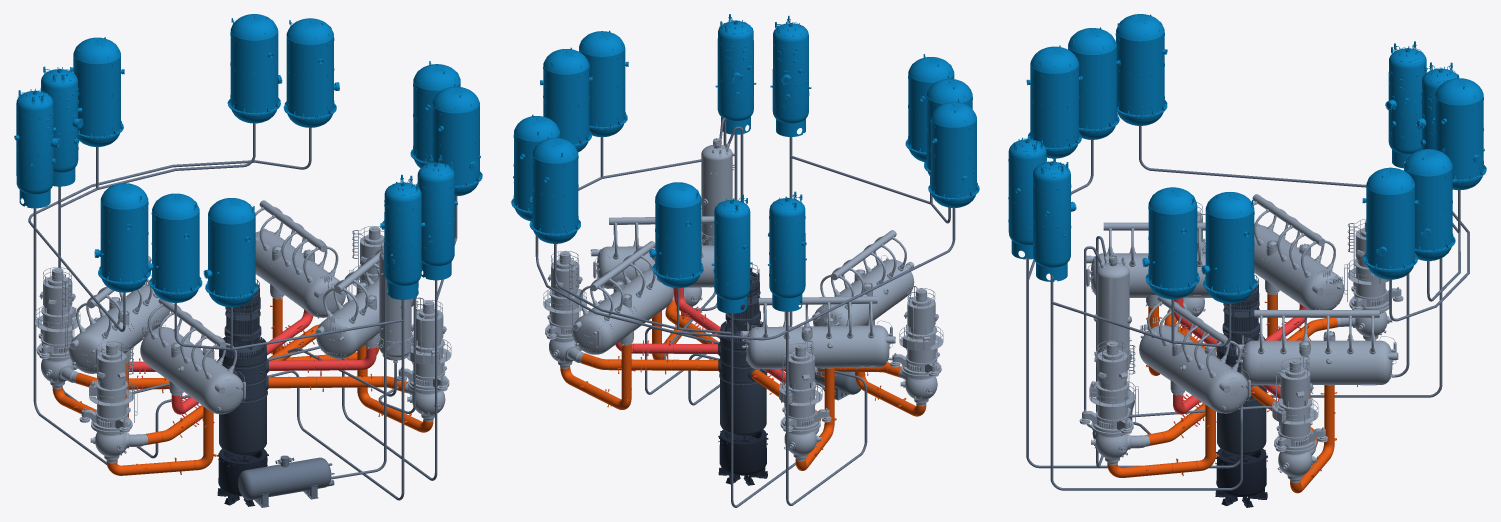
The model's file is vver1200_primary_circuit.glb.
3 views of the same model, side by side, from view 1: azimuth 30°, elevation 25°; view 2: azimuth 150°, elevation 25°; view 3: azimuth 270°, elevation 25° (orthographic). The views are drawn at different scales.
Parts seen in each view (by area): view 1: Pipeline.001, D_02_001_Mesh, D_02_003_Mesh, reactor, D_07.009_Cylinder, D_07.007_Cylinder, D_07.010_Cylinder, D_07.005_Cylinder, D_07.001_Cylinder, D_07.008_Cylinder, D_03_Cube.008, D_02_004_Mesh (+19 smaller); view 2: Pipeline.001, D_02_004_Mesh, D_02_003_Mesh, reactor, D_07.008_Cylinder, D_07.009_Cylinder, D_07.007_Cylinder, D_02_001_Mesh, Hydraulic_capacity_SAOZ.007_Mesh.003, Hydraulic_capacity_SAOZ.006_Mesh.003, D_07.011_Cylinder, Hydraulic_capacity_SAOZ.001_Mesh.003 (+18 smaller); view 3: Pipeline.001, D_02_003_Mesh, D_02_002_Mesh, D_02_004_Mesh, D_07.012_Cylinder, D_07.011_Cylinder, D_07.010_Cylinder, D_07.007_Cylinder, D_07.001_Cylinder, D_03.002_Cube.008, D_07.008_Cylinder, D_03.003_Cube.008 (+15 smaller).
Boxes of the visible parts, x1=… form: Pipeline.001: x1=28, y1=123, x2=457, y2=500; D_02_001_Mesh: x1=140, y1=298, x2=245, y2=414; D_02_003_Mesh: x1=255, y1=200, x2=345, y2=318; reactor: x1=217, y1=279, x2=268, y2=456; D_07.009_Cylinder: x1=227, y1=14, x2=282, y2=123; D_07.007_Cylinder: x1=94, y1=183, x2=150, y2=292; D_07.010_Cylinder: x1=283, y1=18, x2=339, y2=128; D_07.005_Cylinder: x1=146, y1=193, x2=202, y2=302; D_07.001_Cylinder: x1=203, y1=198, x2=258, y2=307; D_07.008_Cylinder: x1=70, y1=37, x2=124, y2=146; D_03_Cube.008: x1=79, y1=341, x2=148, y2=463; D_02_004_Mesh: x1=69, y1=256, x2=169, y2=373; Pipeline.001: x1=535, y1=117, x2=955, y2=507; D_02_004_Mesh: x1=740, y1=296, x2=895, y2=370; D_02_003_Mesh: x1=572, y1=241, x2=673, y2=354; reactor: x1=718, y1=264, x2=767, y2=436; D_07.008_Cylinder: x1=649, y1=182, x2=703, y2=288; D_07.009_Cylinder: x1=529, y1=137, x2=580, y2=244; D_07.007_Cylinder: x1=928, y1=98, x2=979, y2=207; D_02_001_Mesh: x1=811, y1=230, x2=914, y2=326; Hydraulic_capacity_SAOZ.007_Mesh.003: x1=768, y1=191, x2=806, y2=311; Hydraulic_capacity_SAOZ.006_Mesh.003: x1=711, y1=194, x2=752, y2=313; D_07.011_Cylinder: x1=540, y1=47, x2=592, y2=152; Hydraulic_capacity_SAOZ.001_Mesh.003: x1=770, y1=15, x2=811, y2=136; Pipeline.001: x1=1026, y1=126, x2=1469, y2=490; D_02_003_Mesh: x1=1236, y1=310, x2=1398, y2=393; D_02_002_Mesh: x1=1139, y1=296, x2=1250, y2=413; D_02_004_Mesh: x1=1252, y1=194, x2=1343, y2=309; D_07.012_Cylinder: x1=1142, y1=187, x2=1199, y2=299; D_07.011_Cylinder: x1=1201, y1=192, x2=1257, y2=303; D_07.010_Cylinder: x1=1362, y1=167, x2=1418, y2=279; D_07.007_Cylinder: x1=1115, y1=14, x2=1167, y2=125; D_07.001_Cylinder: x1=1026, y1=45, x2=1082, y2=158; D_03.002_Cube.008: x1=1079, y1=340, x2=1150, y2=465; D_07.008_Cylinder: x1=1435, y1=74, x2=1486, y2=190; D_03.003_Cube.008: x1=1272, y1=356, x2=1327, y2=482.
Size of the model in its own units: 9.86 by 9.08 by 9.91.
